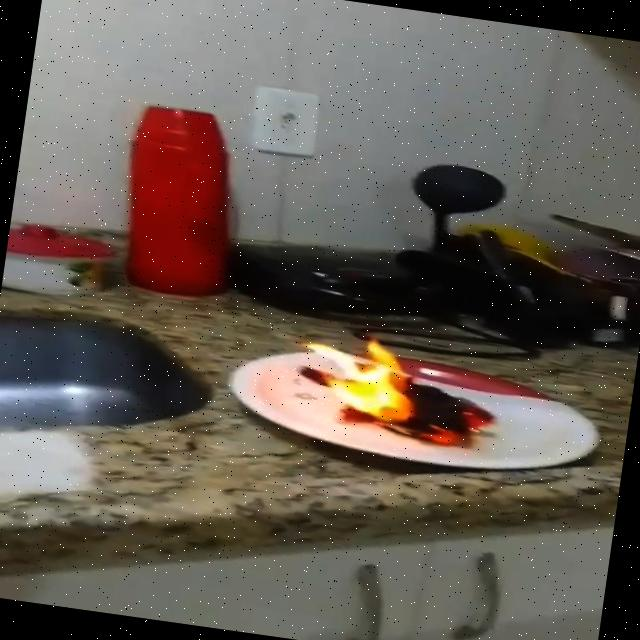fire: (286, 323, 511, 457)
